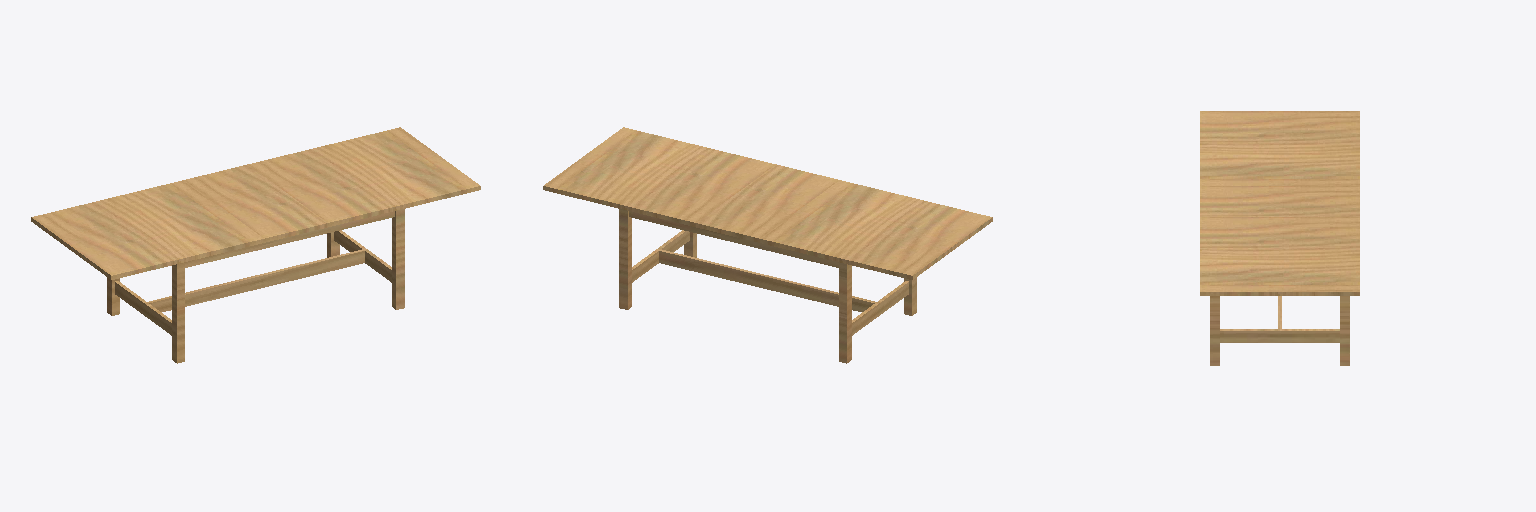
3 views of the same model, side by side, from view 1: azimuth 30°, elevation 25°; view 2: azimuth 150°, elevation 25°; view 3: azimuth 270°, elevation 25° (orthographic).
Parts seen in each view (by area): view 1: Mesh1 Group1 Table_Norden_IKEA1 Model, Mesh2 Group2 Table_Norden_IKEA1 Model, Mesh4 Table_Norden Table_Norden_IKEA1 Model, Mesh3 Group3 Table_Norden_IKEA1 Model; view 2: Mesh1 Group1 Table_Norden_IKEA1 Model, Mesh2 Group2 Table_Norden_IKEA1 Model, Mesh4 Table_Norden Table_Norden_IKEA1 Model, Mesh3 Group3 Table_Norden_IKEA1 Model; view 3: Mesh2 Group2 Table_Norden_IKEA1 Model, Mesh1 Group1 Table_Norden_IKEA1 Model, Mesh3 Group3 Table_Norden_IKEA1 Model, Mesh4 Table_Norden Table_Norden_IKEA1 Model.
Boxes of the visible parts, <box> form: Mesh1 Group1 Table_Norden_IKEA1 Model: <box>31,180,263,279</box>; Mesh2 Group2 Table_Norden_IKEA1 Model: <box>248,127,480,226</box>; Mesh4 Table_Norden Table_Norden_IKEA1 Model: <box>107,209,404,363</box>; Mesh3 Group3 Table_Norden_IKEA1 Model: <box>185,164,327,242</box>; Mesh1 Group1 Table_Norden_IKEA1 Model: <box>760,180,992,279</box>; Mesh2 Group2 Table_Norden_IKEA1 Model: <box>543,127,775,226</box>; Mesh4 Table_Norden Table_Norden_IKEA1 Model: <box>619,209,916,363</box>; Mesh3 Group3 Table_Norden_IKEA1 Model: <box>696,164,838,242</box>; Mesh2 Group2 Table_Norden_IKEA1 Model: <box>1200,217,1359,295</box>; Mesh1 Group1 Table_Norden_IKEA1 Model: <box>1200,111,1359,185</box>; Mesh3 Group3 Table_Norden_IKEA1 Model: <box>1200,186,1359,216</box>; Mesh4 Table_Norden Table_Norden_IKEA1 Model: <box>1210,296,1349,365</box>.
Size of the model in its own units: 2660 by 750 by 1000.
3 materials, 3 textured.